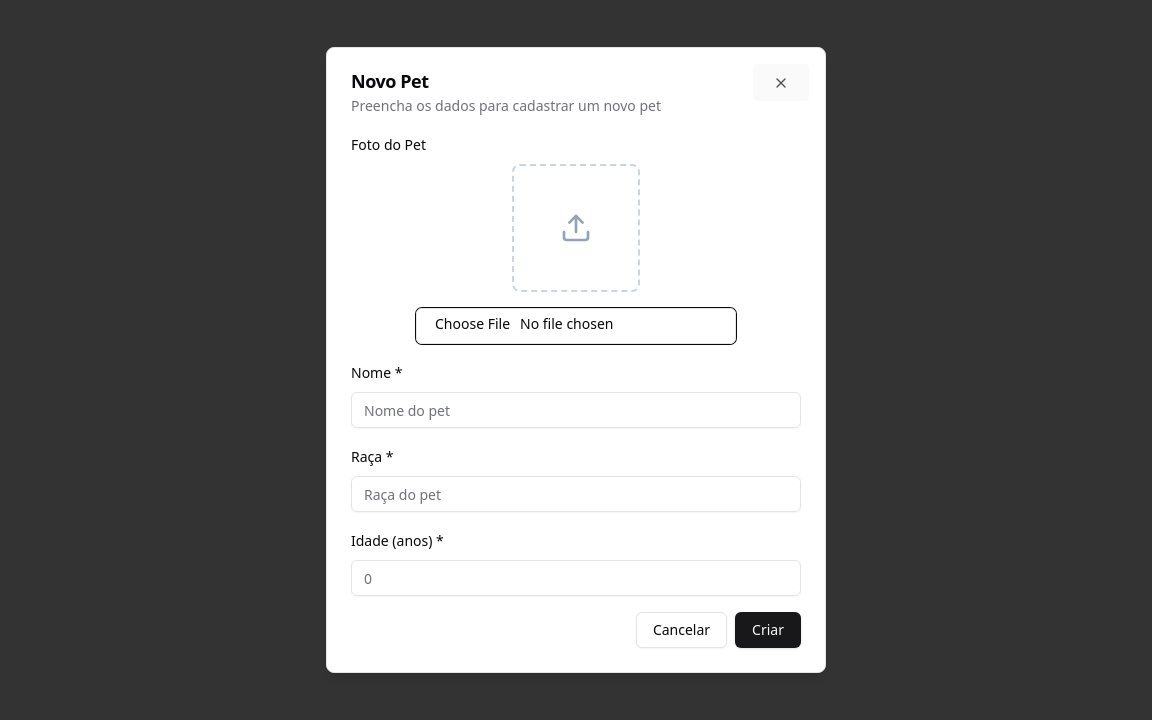
Test: PetFormDialog › Sanitização e segurança › aceita apenas letras e espaços no campo raça
The image size is (1152, 720).
# Tenta digitar números e caracteres especiais
Type "Lab123rador!@#" into the field labelled "Raça *". click: (576, 494)
box: [351, 476, 801, 512]
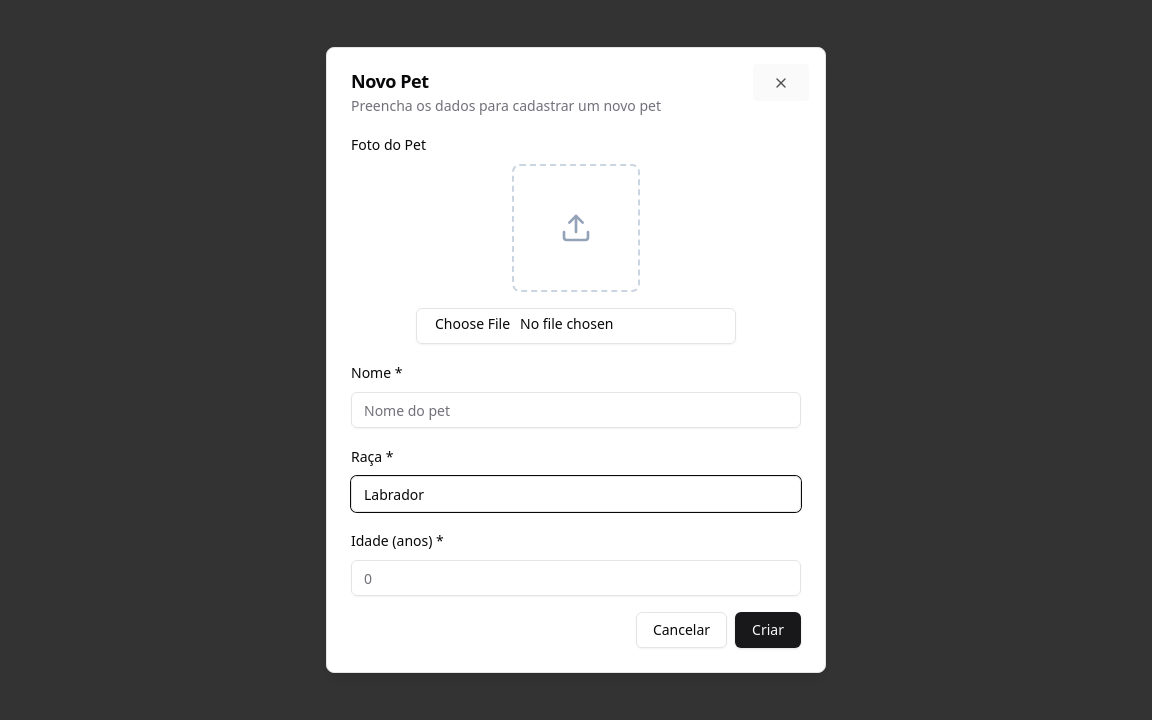
Result: the field labelled "Raça *" holds "Labrador" at [351, 476, 801, 512]
